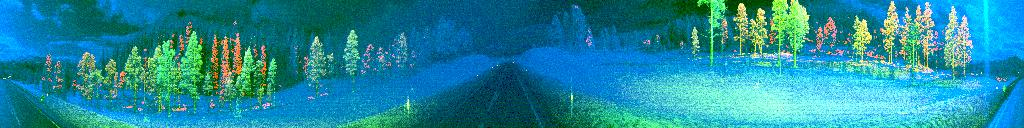pole: (568, 74, 576, 128), (402, 85, 411, 128)
